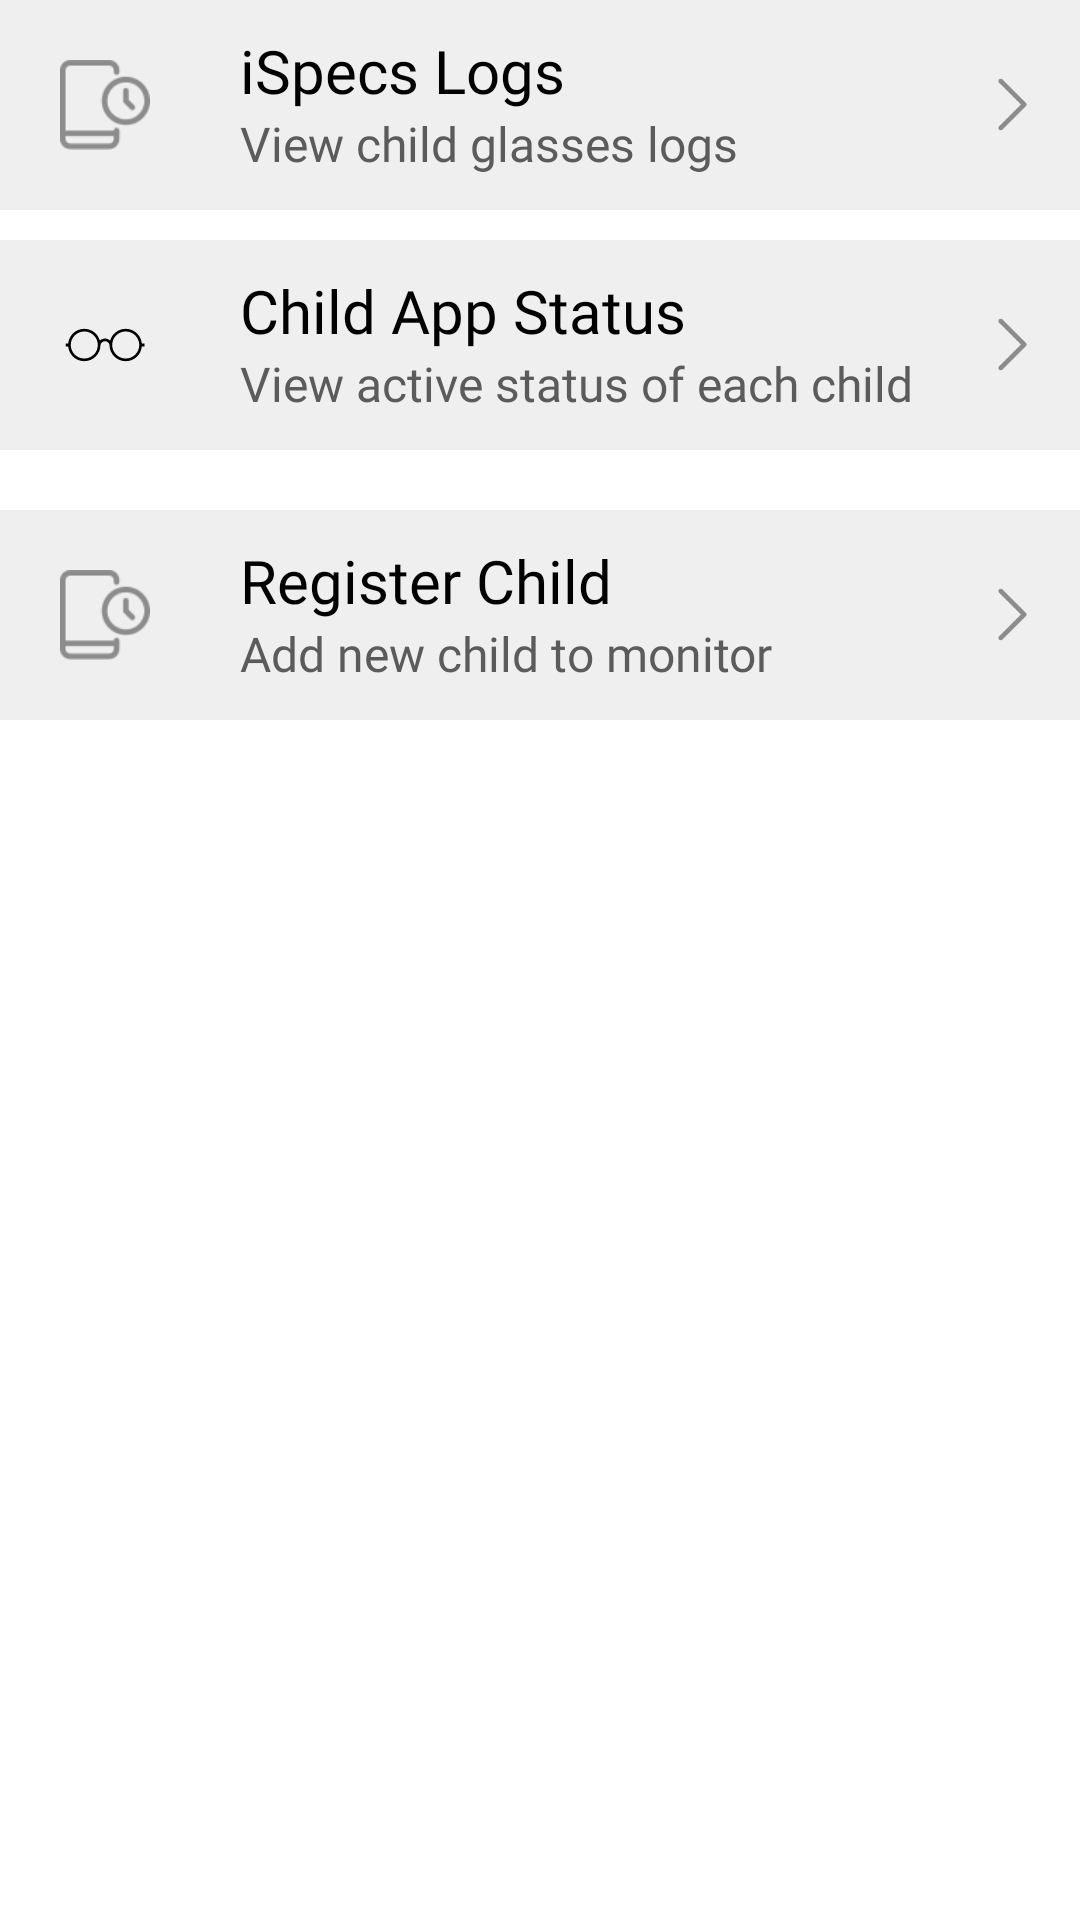

Locate icon controls on the screen. Image size 1080 x 1920, boxes as rect(x1, y1, x2, y2).
chevron: rect(998, 79, 1027, 130), rect(998, 319, 1027, 370), rect(998, 589, 1027, 640)
smartphone: rect(60, 60, 150, 150), rect(60, 570, 150, 660)
